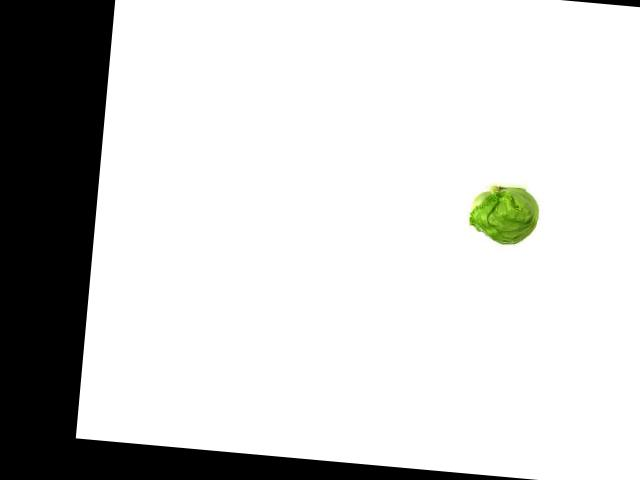lettuce: (459, 183, 547, 253)
